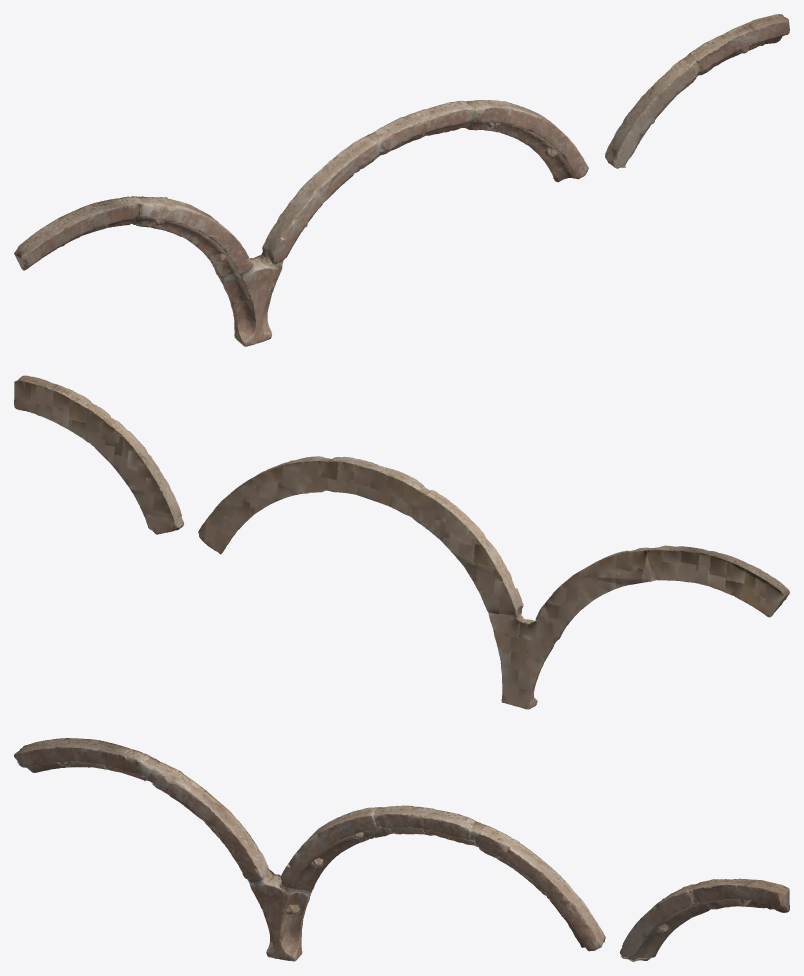
The model's file is preview.glb.
3 views of the same model, one above another, from view 1: azimuth 30°, elevation 25°; view 2: azimuth 150°, elevation 25°; view 3: azimuth 330°, elevation 25° (orthographic). The views are drawn at different scales.
Visible parts, largest first — view 1: ADVIMG_25_120_623_982_988_Spandrel_MASTER_n3d; view 2: ADVIMG_25_120_623_982_988_Spandrel_MASTER_n3d; view 3: ADVIMG_25_120_623_982_988_Spandrel_MASTER_n3d.
Part boxes in pixels (box(x1,y1,x2,y2)): ADVIMG_25_120_623_982_988_Spandrel_MASTER_n3d: box(14, 14, 789, 346); ADVIMG_25_120_623_982_988_Spandrel_MASTER_n3d: box(14, 375, 789, 709); ADVIMG_25_120_623_982_988_Spandrel_MASTER_n3d: box(14, 738, 789, 961).
Size of the model in its own units: 4.33 by 1.08 by 0.2809.
Materials: 1 (1 with a texture image).
